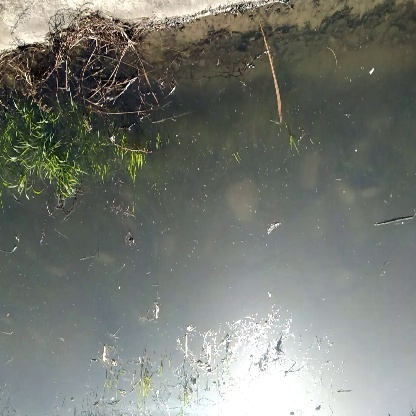grass: (5, 123, 101, 210)
